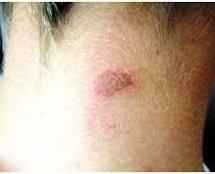Spider: (87, 60, 136, 104)
